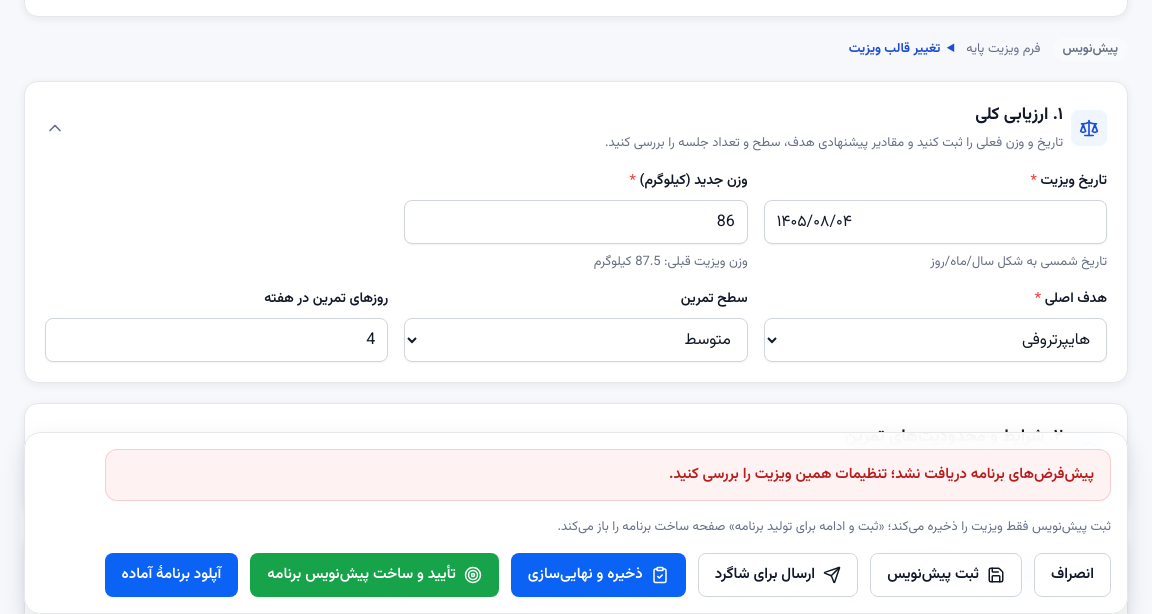
Test: StudentVisitFormPage › saves structured injury choices instead of a second non-executable injury form
(page scrolled)
Click the button "ثبت پیش‌نویس" at (946, 575), box [870, 553, 1022, 597]
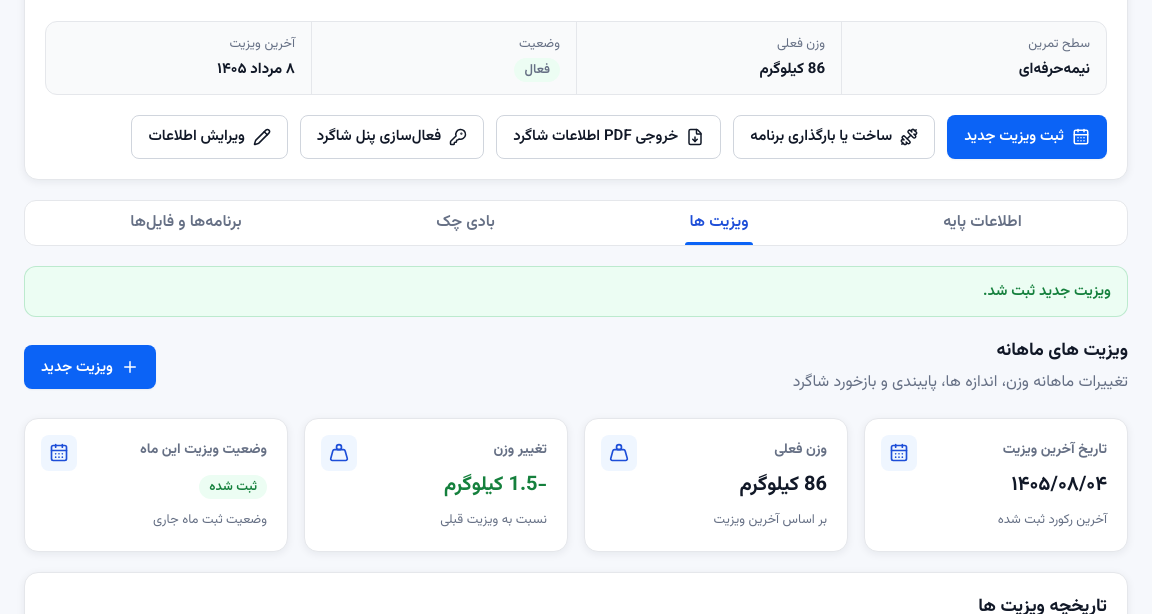
Expected: the text "ویزیت جدید ثبت شد." is shown, [24, 266, 1128, 317]
